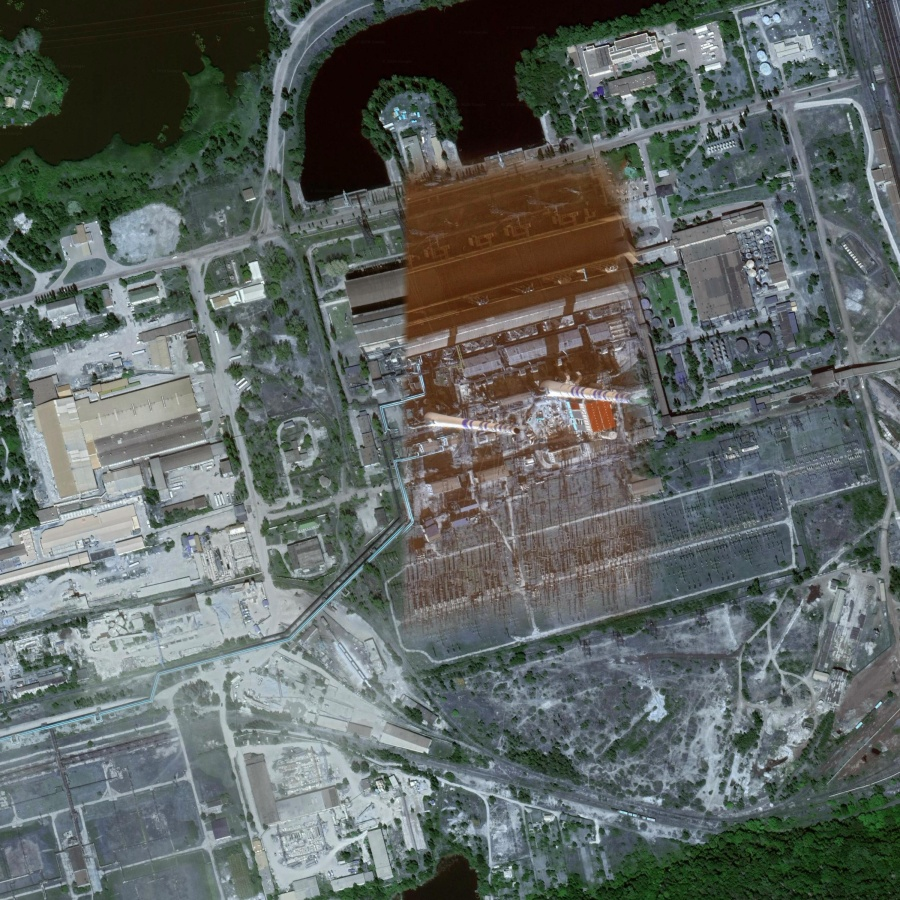PowerPlant: (369, 253, 709, 522)
